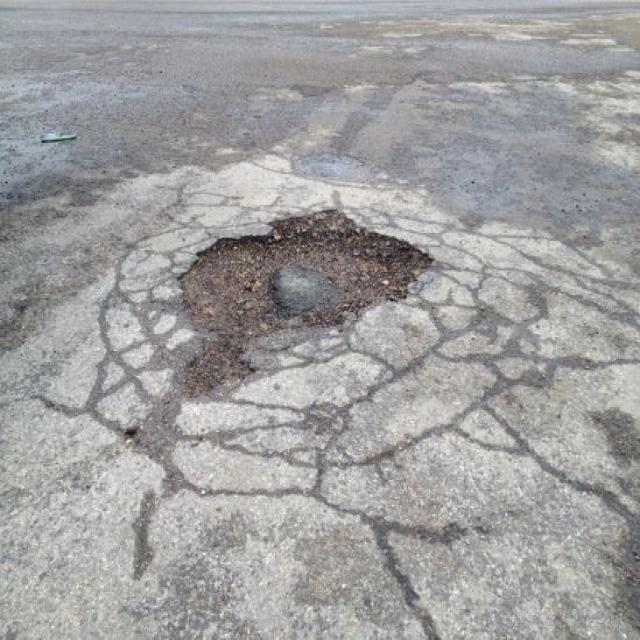pothole: (171, 200, 436, 392)
